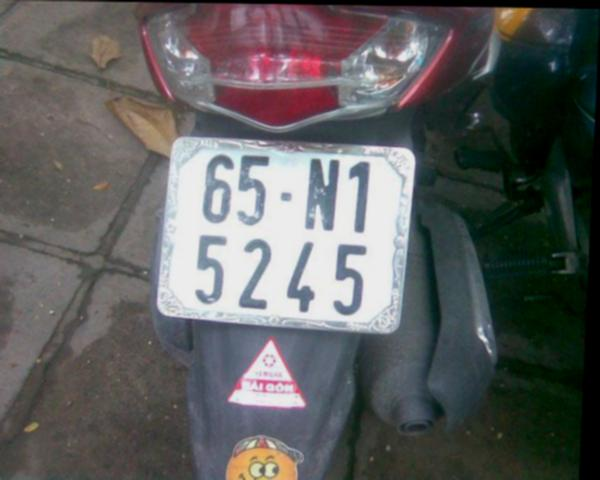License_Plate: (154, 131, 416, 340)
